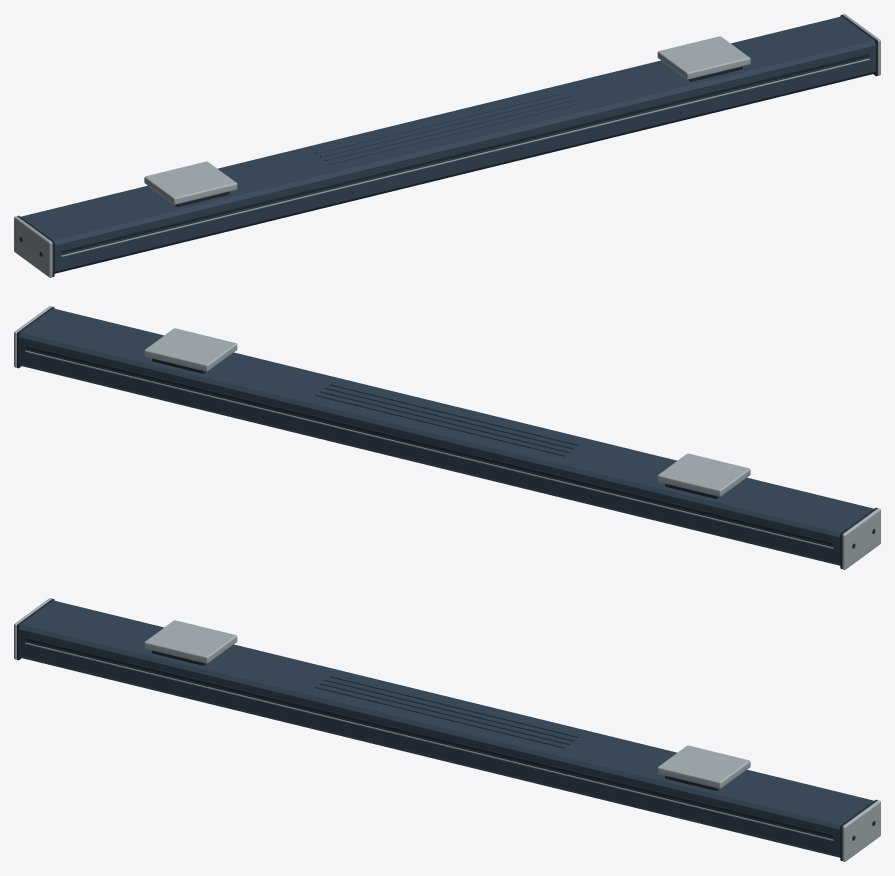
The picture shows the model from 3 angles, top to bottom: view 1: azimuth 30°, elevation 25°; view 2: azimuth 150°, elevation 25°; view 3: azimuth 330°, elevation 25°; orthographic projection.
Parts seen in each view (by area): view 1: Fixture; view 2: Fixture; view 3: Fixture.
Part boxes in pixels (x1=…): Fixture: x1=14, y1=14, x2=880, y2=277; Fixture: x1=14, y1=306, x2=880, y2=569; Fixture: x1=14, y1=598, x2=880, y2=861.
Bounding box in the file's own units: 1.2 × 0.069 × 0.0918.
